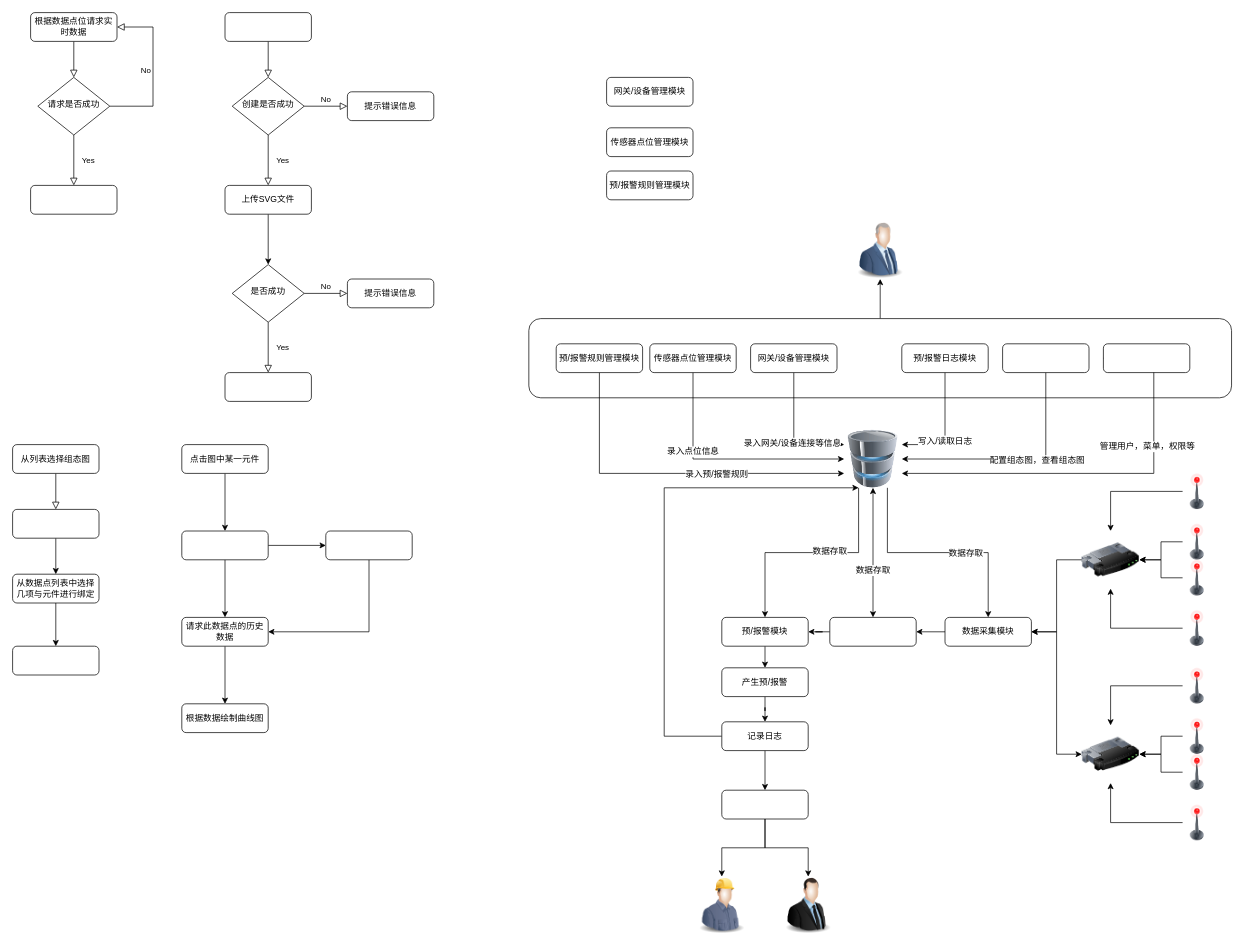
Image size: 1244x947. Some labels were removed from this diagram. Here are the shapes that lost their labels. From the top down, the centre of each, then its label:
[267,26]: 创建文件夹
[73,199]: 更新元件状态
[1045,358]: 组态画面展示模块
[1146,358]: 系统管理模块
[267,386]: 组态图创建成功
[55,523]: 选择图中某一元件
[224,545]: 获取到元件绑定的数据点信息及默认参数
[368,545]: 更改默认请求参数
[872,631]: 数据处理模块
[55,660]: 完成绑点
[764,804]: 推送消息
